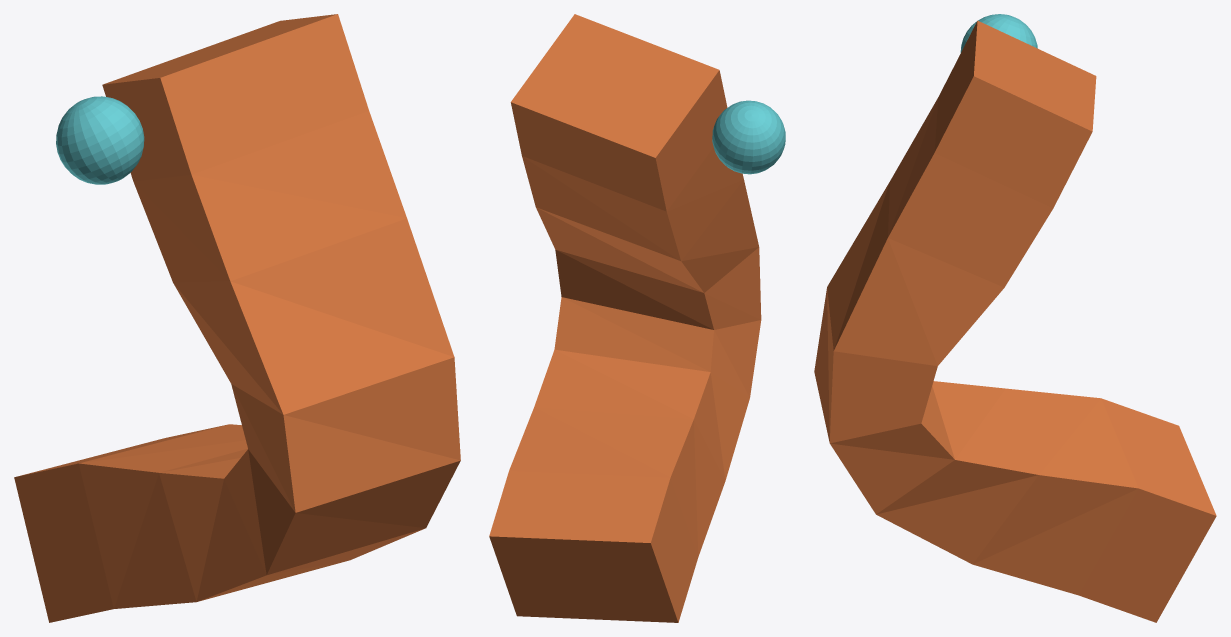
File: matched-pose.glb
The picture shows the model from 3 angles, left to right: view 1: azimuth 30°, elevation 25°; view 2: azimuth 150°, elevation 25°; view 3: azimuth 270°, elevation 25°; orthographic projection. The views are drawn at different scales.
Visible parts, largest first — view 1: Flexible column · 当前姿态, Wrist; view 2: Flexible column · 当前姿态, Wrist; view 3: Flexible column · 当前姿态, Wrist.
Boxes of the visible parts, box(x1,y1,x2,y2) form: Flexible column · 当前姿态: box(14, 14, 460, 622); Wrist: box(56, 96, 144, 184); Flexible column · 当前姿态: box(489, 14, 761, 622); Wrist: box(712, 100, 785, 174); Flexible column · 当前姿态: box(814, 20, 1216, 622); Wrist: box(960, 14, 1037, 52).
Size of the model in its own units: 1.04 by 2.06 by 1.34.
